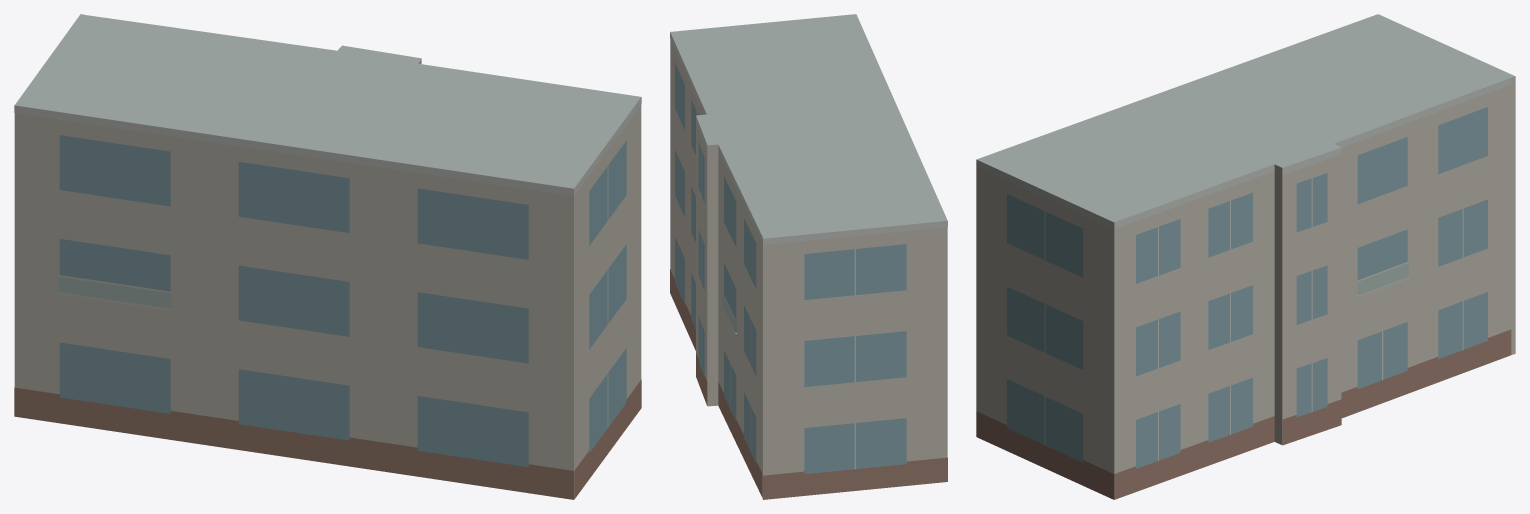
File: survey-upis-32626302.glb
3 renders of one model, left to right at view 1: azimuth 30°, elevation 25°; view 2: azimuth 150°, elevation 25°; view 3: azimuth 270°, elevation 25°, orthographic. The views are drawn at different scales.
Visible parts, largest first — view 1: survey-upis-32626302.tmp; view 2: survey-upis-32626302.tmp; view 3: survey-upis-32626302.tmp.
Part boxes in pixels (<box>): survey-upis-32626302.tmp: <box>14,14,641,499</box>; survey-upis-32626302.tmp: <box>670,14,947,499</box>; survey-upis-32626302.tmp: <box>976,14,1515,499</box>.
Bounding box in the file's own units: 16.12 × 10 × 17.62.
